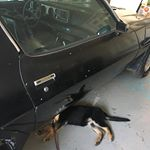puppy: (38, 90, 135, 148)
